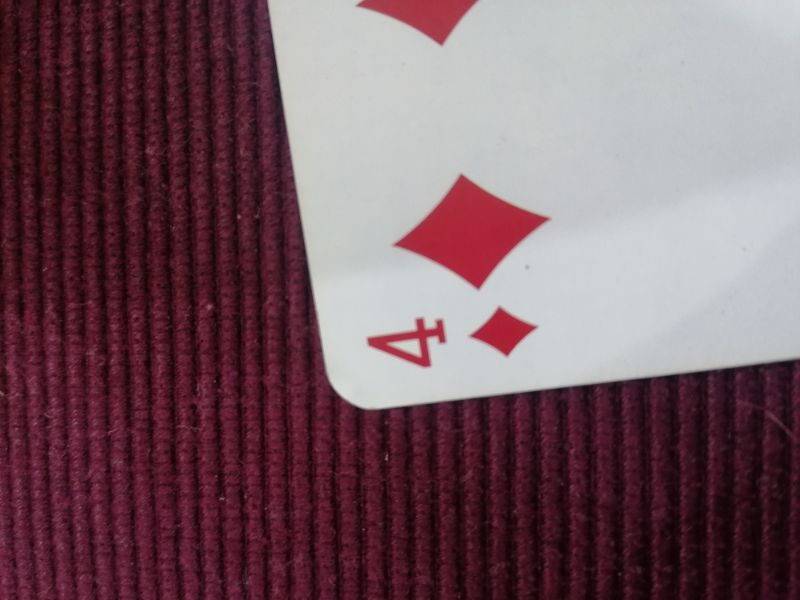4d: (364, 301, 543, 372)
